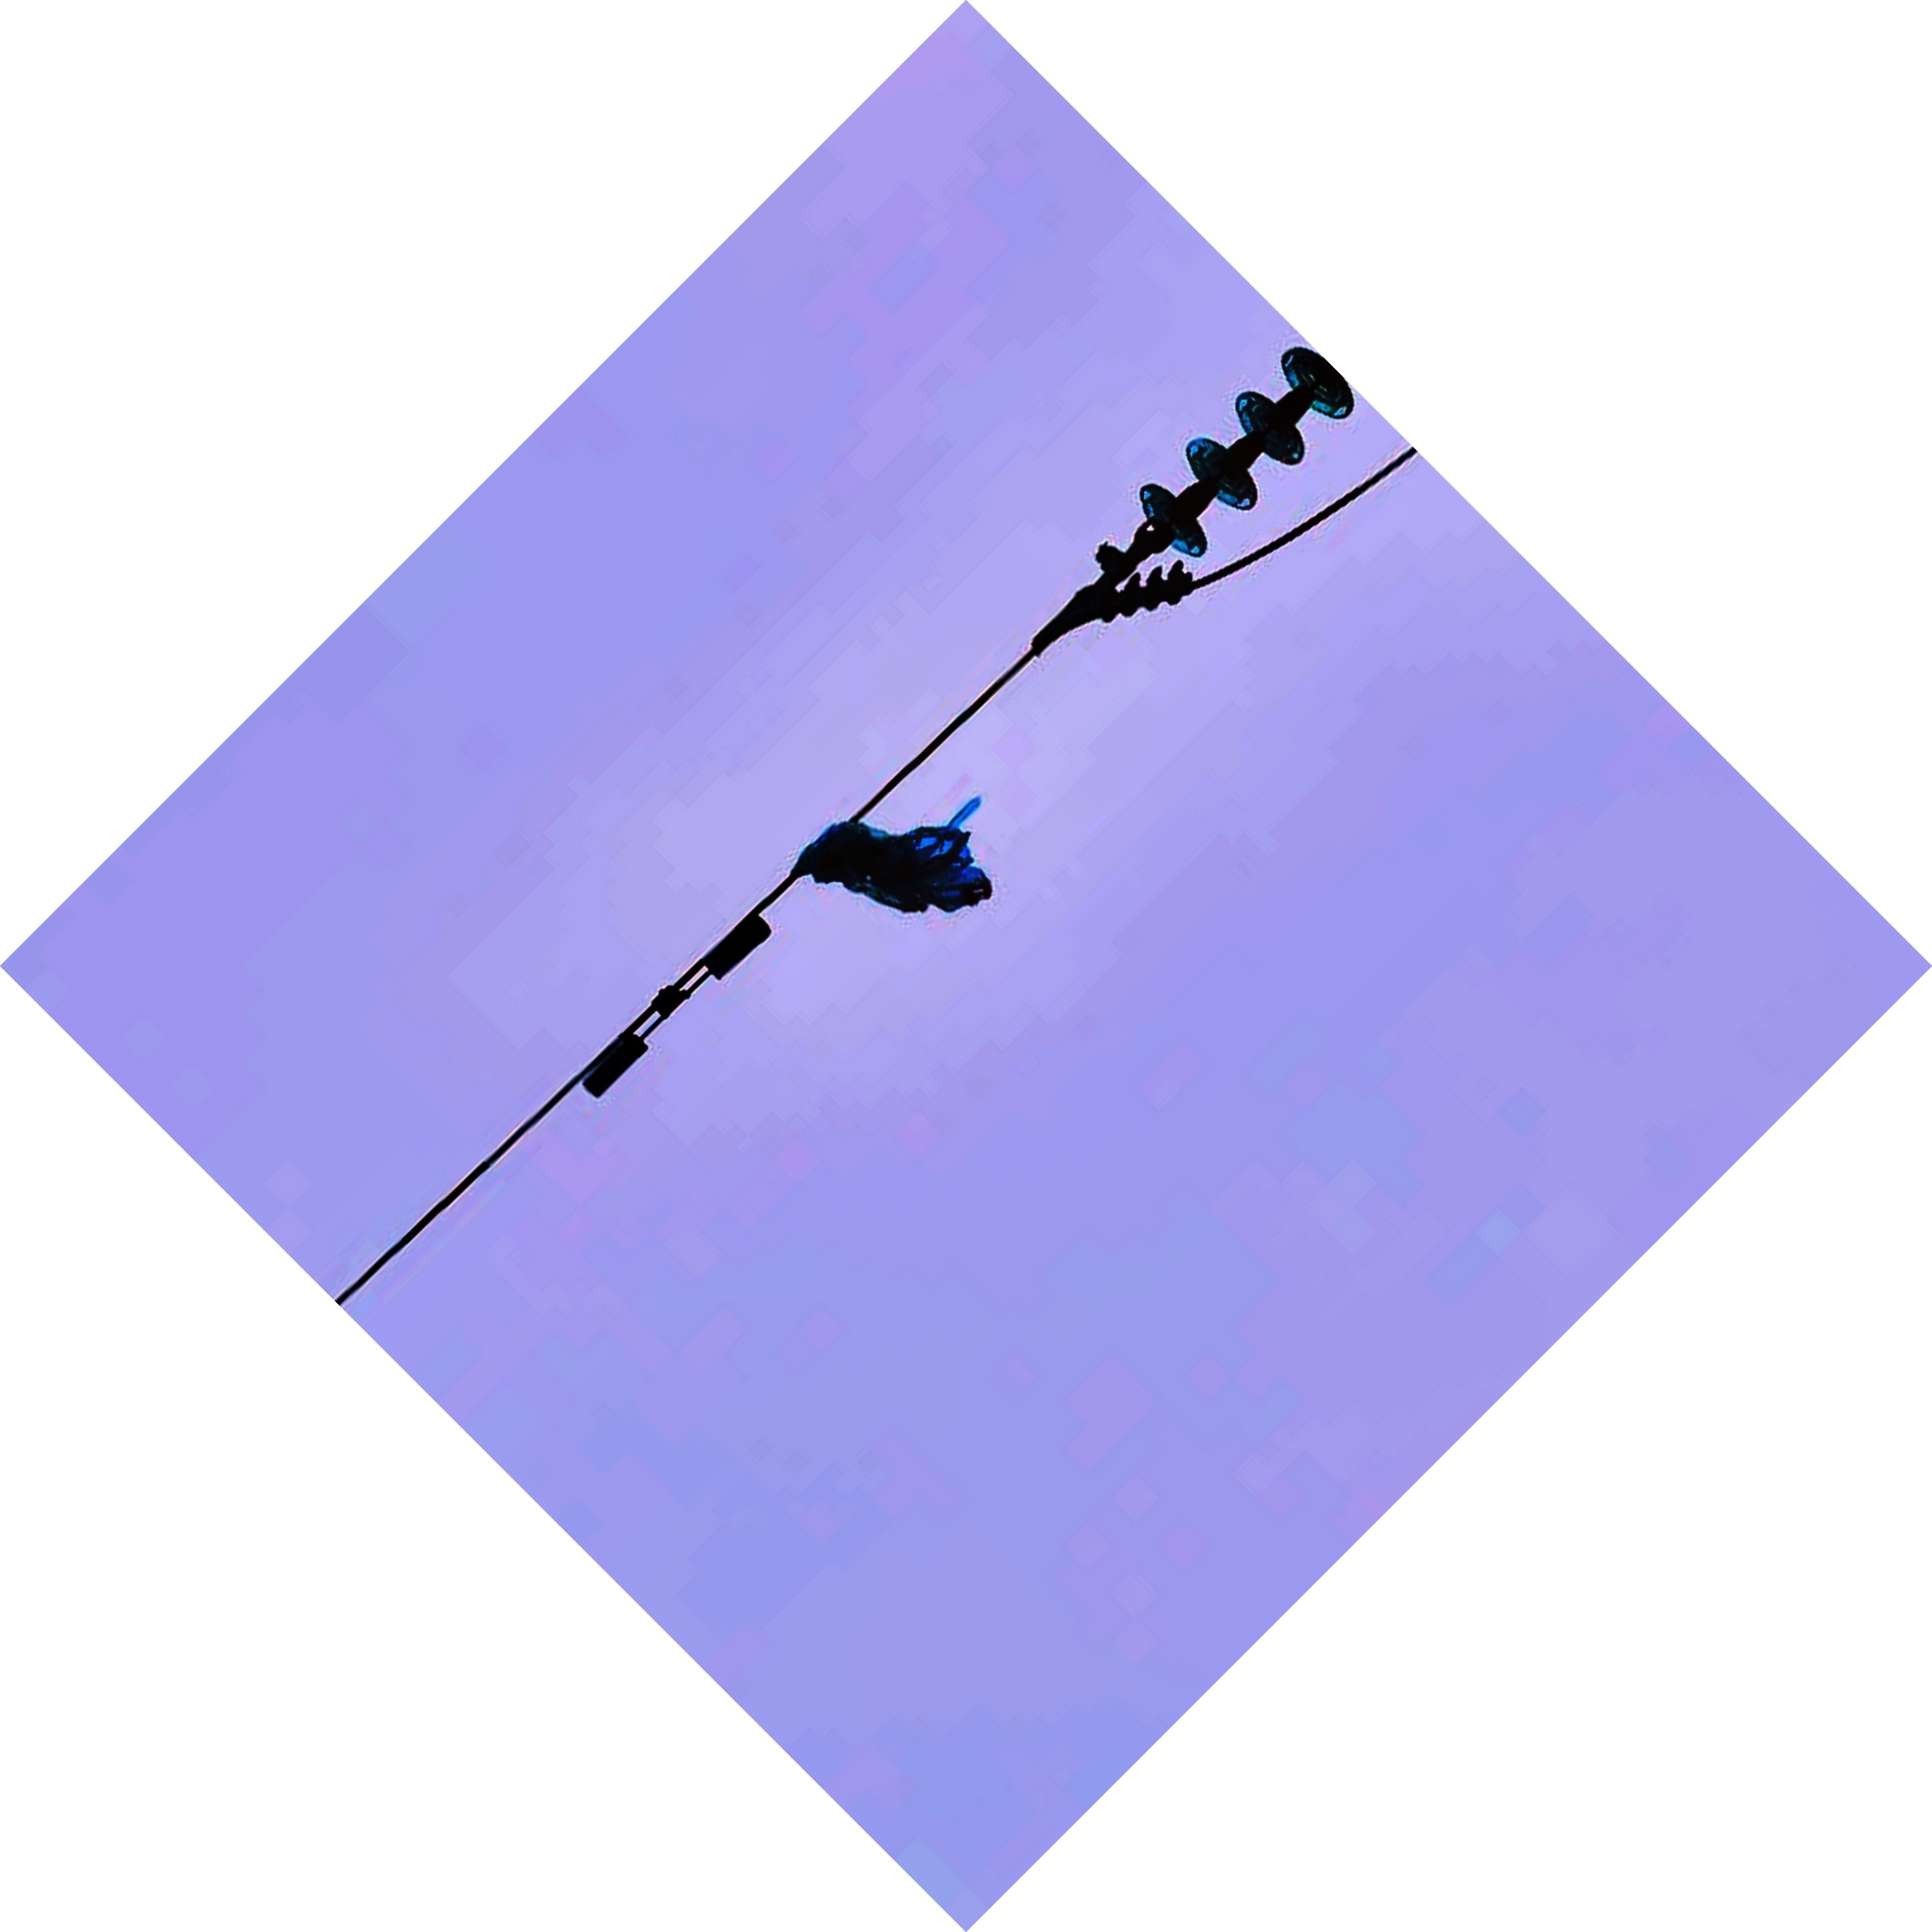wire foreign body: (764, 786, 1019, 943)
